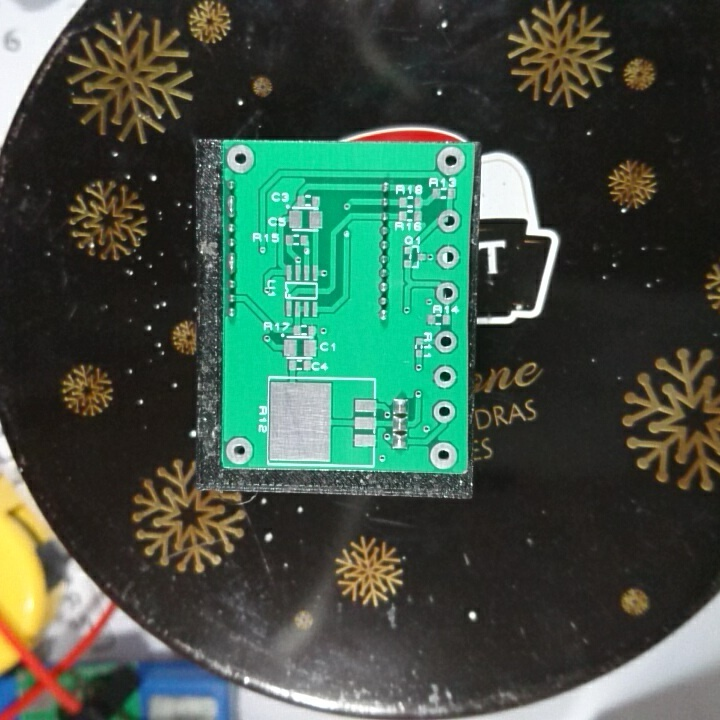F: (223, 433, 257, 467), (434, 143, 467, 178), (225, 142, 256, 177), (427, 439, 460, 471), (431, 327, 462, 357), (431, 360, 460, 392), (430, 397, 458, 426), (436, 206, 463, 235), (432, 278, 461, 305), (436, 243, 461, 272)
P: (224, 192, 241, 221), (225, 251, 240, 275)
